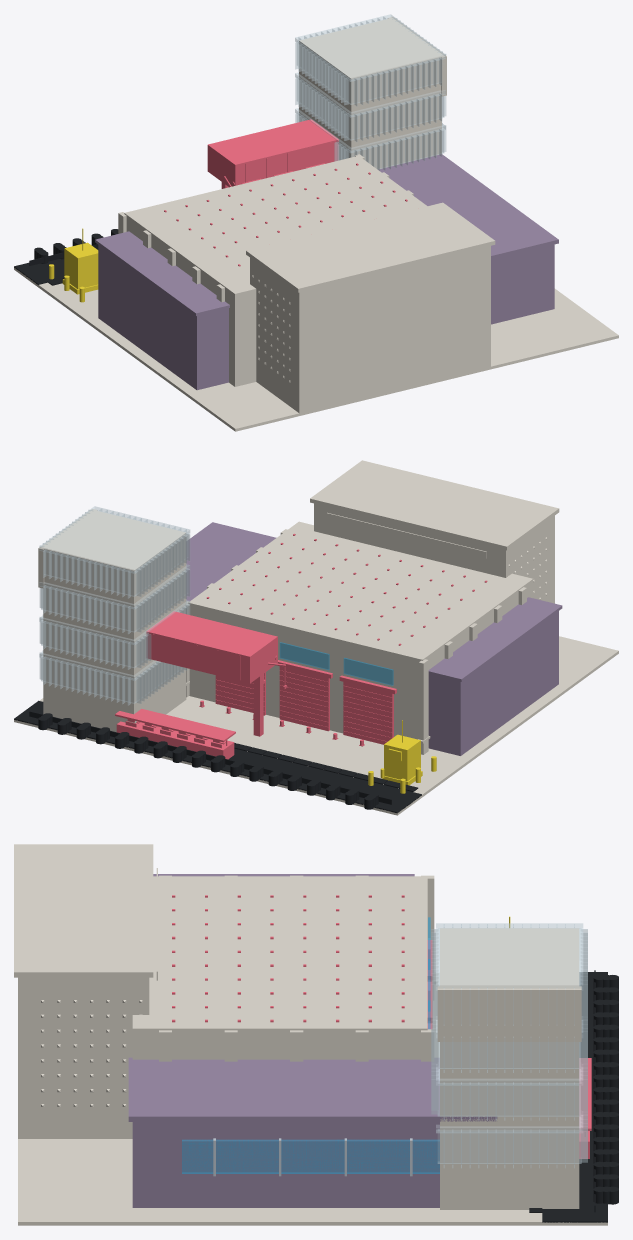
File: hq_08_motorsport_l5.glb
The picture shows the model from 3 angles, top to bottom: view 1: azimuth 30°, elevation 25°; view 2: azimuth 150°, elevation 25°; view 3: azimuth 270°, elevation 25°; orthographic projection. The views are drawn at different scales.
Parts seen in each view (by area): view 1: GEO_Motorsport_DIL_Sim_Shell, GEO_Motorsport_Race_Bay_Shell, GEO_Motorsport_Telemetry_Tower_Shell, GEO_Motorsport_Tower_Curtain_Glass, GEO_Motorsport_Composite_Cleanroom_Shell, GEO_Motorsport_Foundation_Plinth, GEO_Motorsport_Office_Halls, GEO_Motorsport_Pitlane_Gantry_Bridge, GEO_Motorsport_Track_Marshal_Post, GEO_Motorsport_Circuit_Test_Strip; view 2: GEO_Motorsport_Race_Bay_Shell, GEO_Motorsport_Telemetry_Tower_Shell, GEO_Motorsport_Tower_Curtain_Glass, GEO_Motorsport_DIL_Sim_Shell, GEO_Motorsport_Composite_Cleanroom_Shell, GEO_Motorsport_Foundation_Plinth, GEO_Motorsport_Pitlane_Gantry_Bridge, GEO_Motorsport_Circuit_Test_Strip, GEO_Motorsport_Bay_RollUp_Doors, GEO_Motorsport_Office_Halls, GEO_Motorsport_Track_Marshal_Post, GEO_Motorsport_Transom_Windows (+1 smaller); view 3: GEO_Motorsport_Race_Bay_Shell, GEO_Motorsport_Office_Halls, GEO_Motorsport_Telemetry_Tower_Shell, GEO_Motorsport_DIL_Sim_Shell, GEO_Motorsport_Tower_Curtain_Glass, GEO_Motorsport_Foundation_Plinth, GEO_Motorsport_Circuit_Test_Strip, GEO_Motorsport_Office_Glass, GEO_Motorsport_Pitlane_Gantry_Bridge, GEO_Motorsport_HighBay_Roof_Trusses, GEO_Motorsport_Composite_Cleanroom_Shell.
Part boxes in pixels (x1,y1,x2,y2): GEO_Motorsport_DIL_Sim_Shell: (246, 202, 495, 413); GEO_Motorsport_Race_Bay_Shell: (118, 154, 427, 386); GEO_Motorsport_Telemetry_Tower_Shell: (299, 17, 446, 168); GEO_Motorsport_Tower_Curtain_Glass: (295, 14, 446, 170); GEO_Motorsport_Composite_Cleanroom_Shell: (95, 231, 229, 390); GEO_Motorsport_Foundation_Plinth: (14, 267, 618, 431); GEO_Motorsport_Office_Halls: (378, 154, 558, 324); GEO_Motorsport_Pitlane_Gantry_Bridge: (207, 119, 338, 188); GEO_Motorsport_Track_Marshal_Post: (49, 228, 98, 302); GEO_Motorsport_Circuit_Test_Strip: (14, 229, 118, 285); GEO_Motorsport_Race_Bay_Shell: (186, 521, 533, 754); GEO_Motorsport_Telemetry_Tower_Shell: (38, 509, 186, 732); GEO_Motorsport_Tower_Curtain_Glass: (39, 506, 190, 705); GEO_Motorsport_DIL_Sim_Shell: (310, 460, 559, 603); GEO_Motorsport_Composite_Cleanroom_Shell: (428, 597, 562, 755); GEO_Motorsport_Foundation_Plinth: (14, 636, 618, 815); GEO_Motorsport_Pitlane_Gantry_Bridge: (115, 611, 364, 759); GEO_Motorsport_Circuit_Test_Strip: (14, 700, 421, 813); GEO_Motorsport_Bay_RollUp_Doors: (215, 660, 396, 744); GEO_Motorsport_Office_Halls: (186, 522, 276, 601); GEO_Motorsport_Track_Marshal_Post: (368, 720, 436, 793); GEO_Motorsport_Transom_Windows: (279, 642, 393, 685); GEO_Motorsport_Race_Bay_Shell: (132, 875, 437, 1061); GEO_Motorsport_Office_Halls: (128, 1057, 497, 1207); GEO_Motorsport_Telemetry_Tower_Shell: (437, 928, 581, 1209); GEO_Motorsport_DIL_Sim_Shell: (14, 844, 157, 1138); GEO_Motorsport_Tower_Curtain_Glass: (431, 923, 587, 1168); GEO_Motorsport_Foundation_Plinth: (18, 973, 607, 1225); GEO_Motorsport_Circuit_Test_Strip: (529, 970, 618, 1222); GEO_Motorsport_Office_Glass: (182, 1139, 439, 1173); GEO_Motorsport_Pitlane_Gantry_Bridge: (579, 1058, 591, 1158); GEO_Motorsport_HighBay_Roof_Trusses: (172, 895, 404, 1022); GEO_Motorsport_Composite_Cleanroom_Shell: (153, 874, 414, 876).
Size of what is drawn, in the model's own units: 36 by 15.48 by 36.92.
